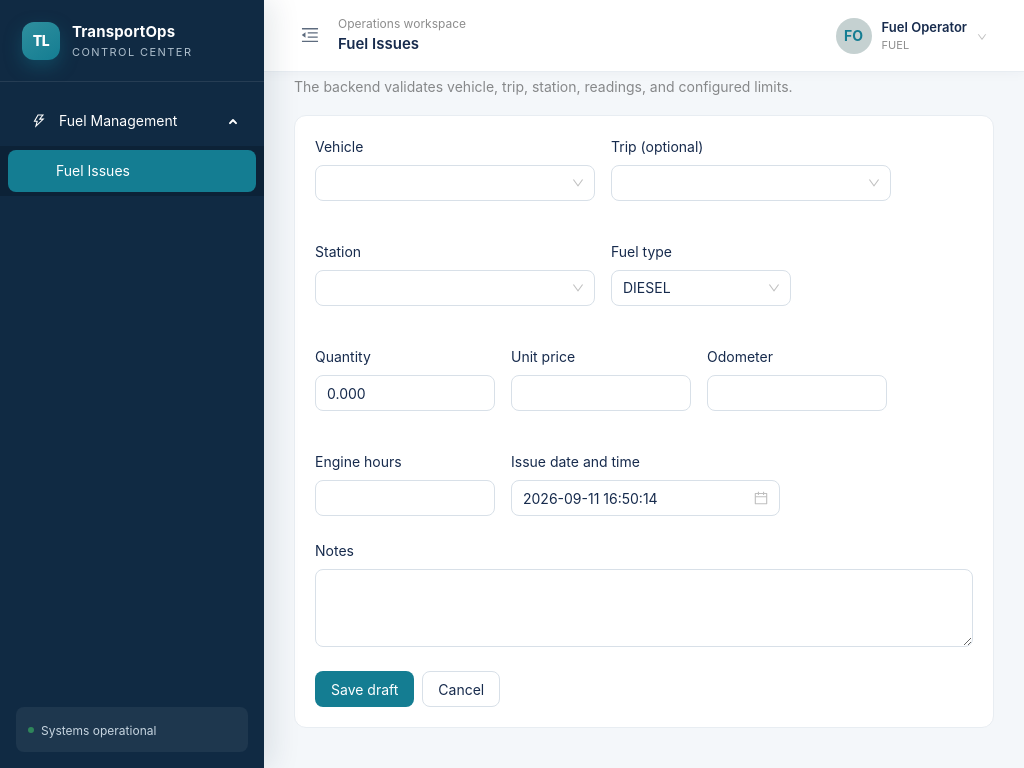
it: Fuel Issue MVP pages › validates positive quantity on the create form
The image size is (1024, 768).
(page scrolled)
Expected: the heading "Create fuel issue" is shown, [294,33,490,62]
Click the button "Save draft". click: (365, 689)
box: [315,671,414,707]
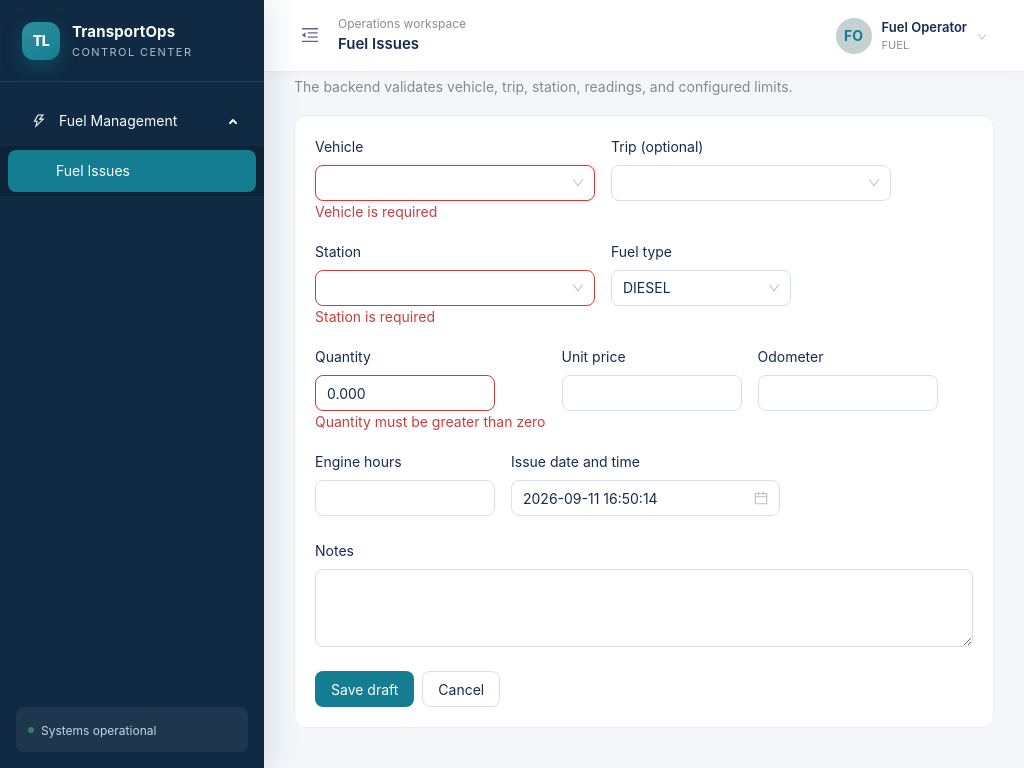
Result: the text "Quantity must be greater than zero" is shown at [315,411,546,432]
